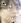without_mask: (2, 2, 21, 23)
